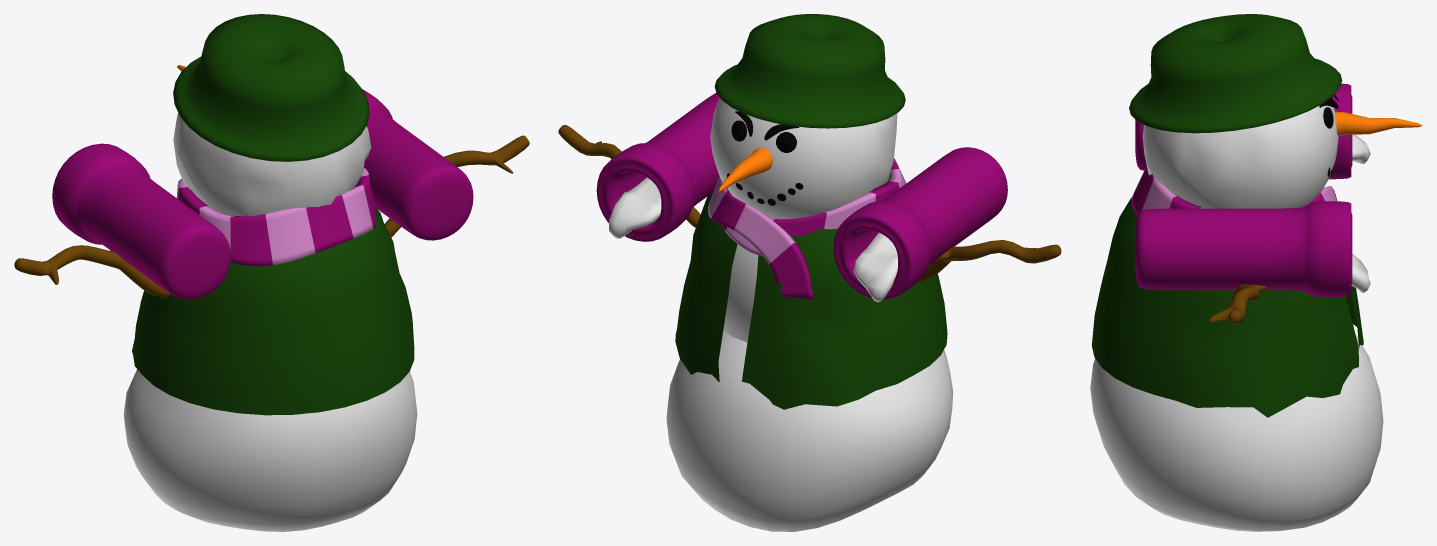
File: MunecoOPS.fbx
The picture shows the model from 3 angles, left to right: view 1: azimuth 30°, elevation 25°; view 2: azimuth 150°, elevation 25°; view 3: azimuth 270°, elevation 25°; orthographic projection. The views are drawn at different scales.
Parts seen in each view (by area): view 1: OperacionesEspeciales.001; view 2: OperacionesEspeciales.001; view 3: OperacionesEspeciales.001.
Part boxes in pixels (<box>): OperacionesEspeciales.001: <box>14,14,529,531</box>; OperacionesEspeciales.001: <box>558,14,1061,531</box>; OperacionesEspeciales.001: <box>1090,14,1422,531</box>.
Size of the model in its own units: 362 by 319 by 204.
